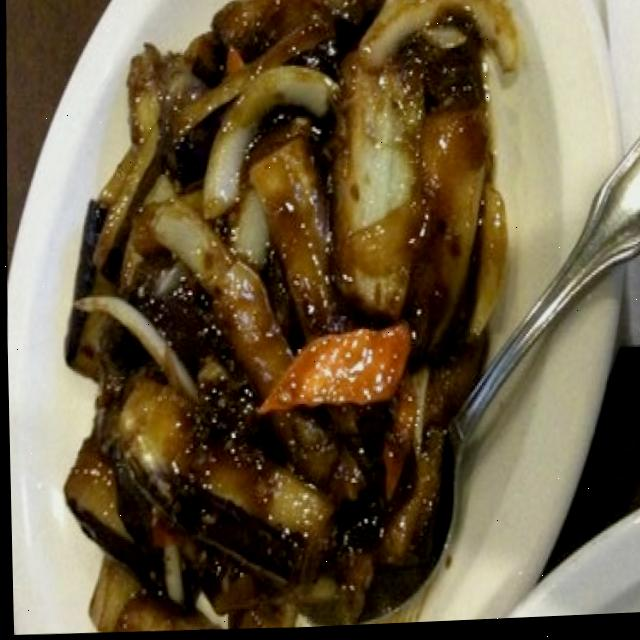鸡蛋料理: (18, 34, 607, 592)
